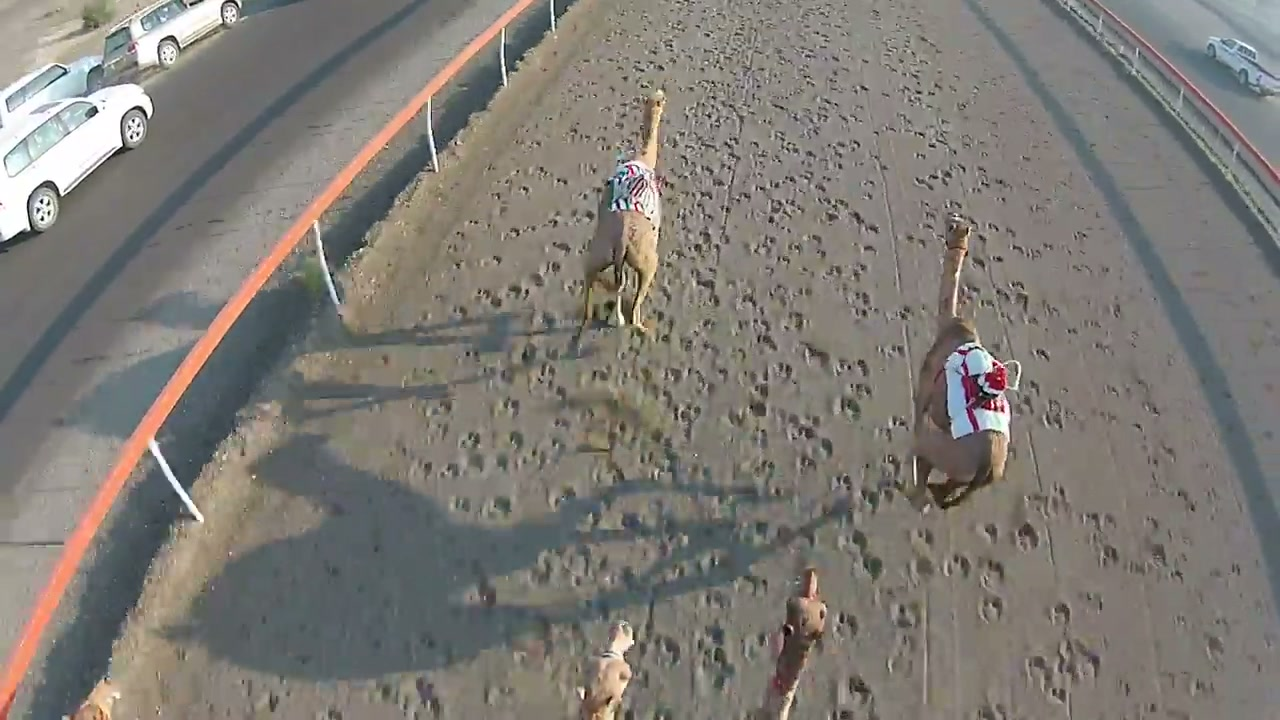animal_foot_print: (819, 12, 1019, 708), (664, 27, 864, 691), (415, 51, 684, 544)
